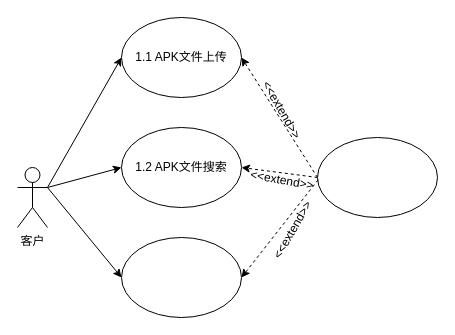
This 455x335 diagram has some shape labels left out. Here are the shapes that lost their labels. From the top down, the box of each, then its label:
(316, 136, 438, 218): 4. 身份认证
(120, 236, 242, 318): 1.3 APK文件静态分析
